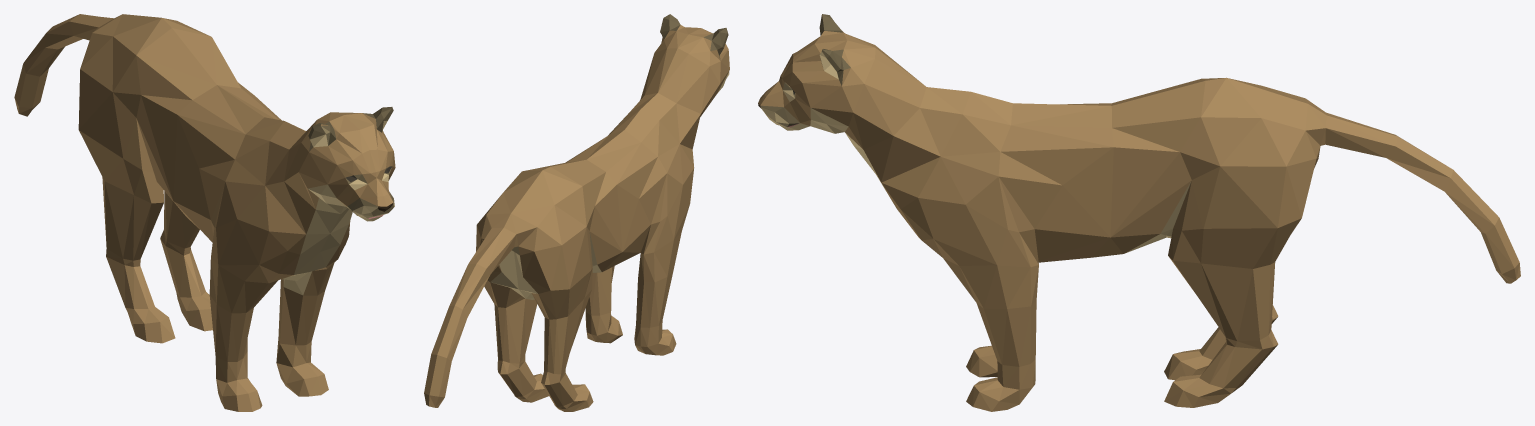
The model's file is mountainLion_colorMap.obj.
3 renders of one model, left to right at view 1: azimuth 30°, elevation 25°; view 2: azimuth 150°, elevation 25°; view 3: azimuth 270°, elevation 25°, orthographic. The views are drawn at different scales.
Size of the model in its own units: 35.76 by 99.31 by 194.
